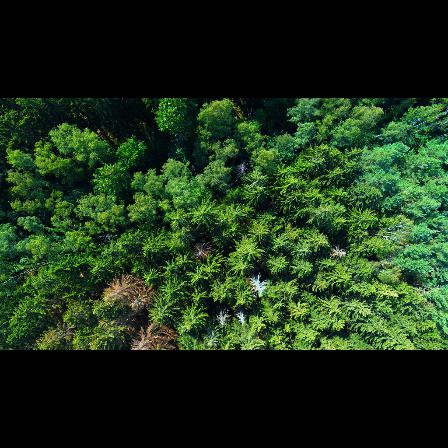Dead: (100, 274, 151, 309), (134, 321, 180, 350), (248, 272, 271, 299), (191, 242, 210, 261), (214, 303, 227, 326), (233, 158, 250, 175), (235, 304, 246, 327)
